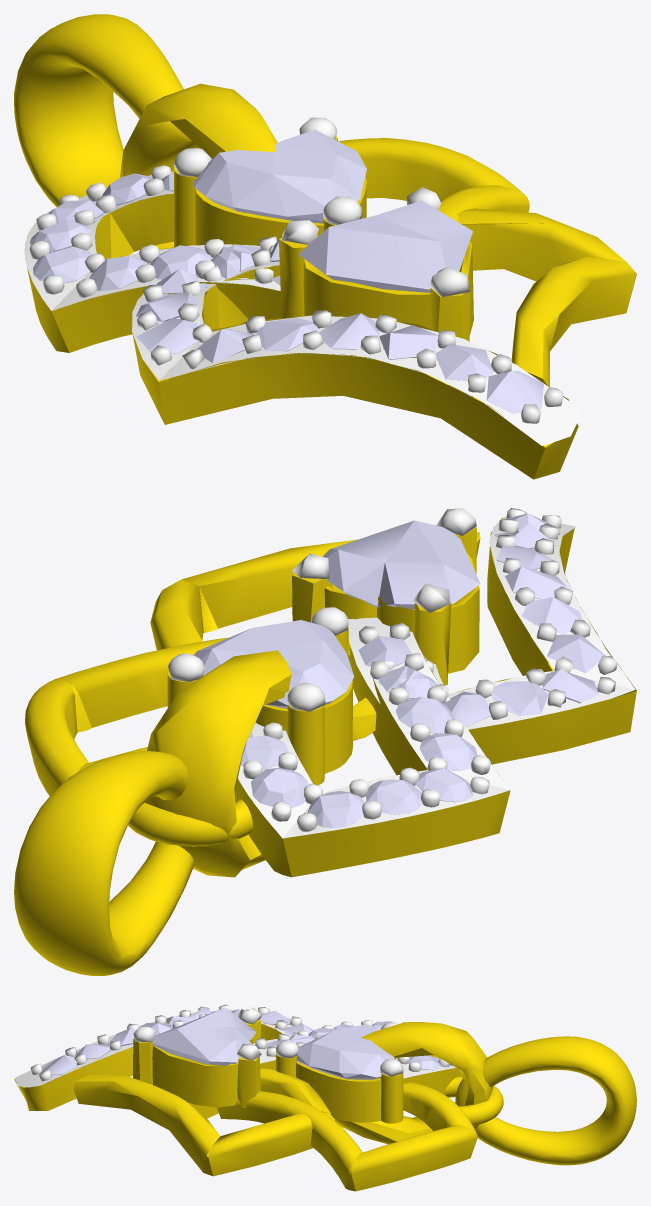
The model's file is DPN-D000675386.glb.
3 views of the same model, one above another, from view 1: azimuth 30°, elevation 25°; view 2: azimuth 150°, elevation 25°; view 3: azimuth 270°, elevation 25° (orthographic). The views are drawn at different scales.
Parts seen in each view (by area): view 1: lowPolyMesh, highPolyMesh; view 2: highPolyMesh, lowPolyMesh; view 3: lowPolyMesh, highPolyMesh.
Part boxes in pixels (x1,y1,x2,y2): lowPolyMesh: [120, 83, 636, 479]; highPolyMesh: [14, 14, 529, 352]; highPolyMesh: [14, 607, 510, 975]; lowPolyMesh: [145, 508, 636, 877]; lowPolyMesh: [14, 1004, 493, 1176]; highPolyMesh: [188, 1020, 636, 1191].
Bounding box in the file's own units: 0.0113 × 0.00496 × 0.0207.
